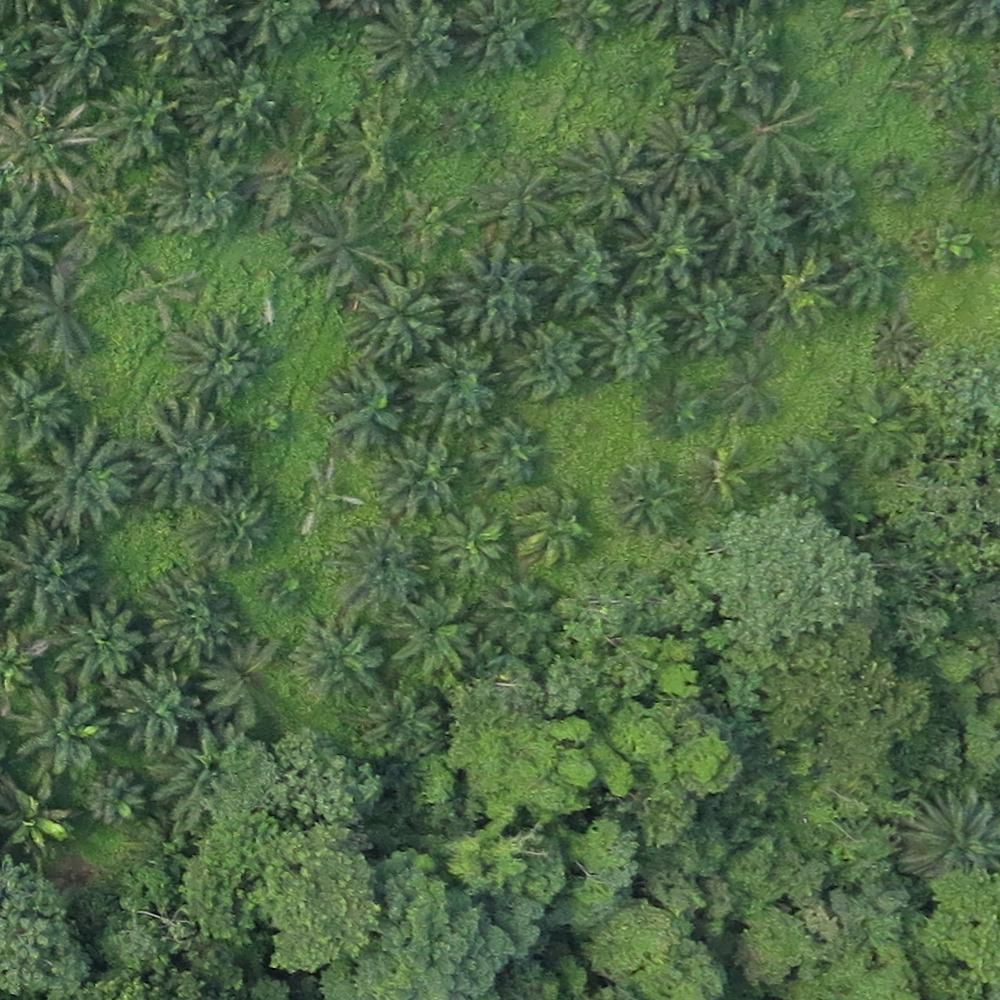Palm: (130, 402, 235, 504), (675, 13, 781, 114), (140, 569, 246, 665), (31, 431, 137, 525), (18, 681, 116, 780), (731, 84, 828, 179), (553, 125, 657, 213), (2, 526, 94, 625), (16, 268, 112, 361), (442, 246, 537, 338), (148, 151, 241, 244), (3, 97, 88, 194), (285, 207, 382, 292), (333, 524, 419, 619), (179, 64, 281, 144), (31, 4, 123, 92), (239, 126, 333, 211), (165, 321, 260, 405), (135, 1, 231, 84), (474, 156, 562, 246), (639, 104, 728, 192), (112, 671, 204, 755), (288, 617, 383, 698), (360, 5, 457, 83), (351, 276, 441, 358), (318, 361, 403, 447), (708, 176, 791, 264), (411, 346, 500, 428), (57, 607, 151, 683), (394, 596, 480, 679), (89, 86, 179, 163), (669, 279, 754, 360), (185, 493, 273, 571), (449, 4, 536, 81), (382, 440, 464, 521), (4, 776, 77, 864), (832, 229, 908, 313), (630, 206, 710, 285), (541, 230, 620, 308), (586, 305, 667, 381), (761, 251, 836, 333), (606, 461, 685, 535), (511, 489, 589, 563), (431, 511, 507, 581), (469, 418, 538, 489), (686, 441, 756, 510), (515, 327, 584, 395), (85, 767, 148, 826)
